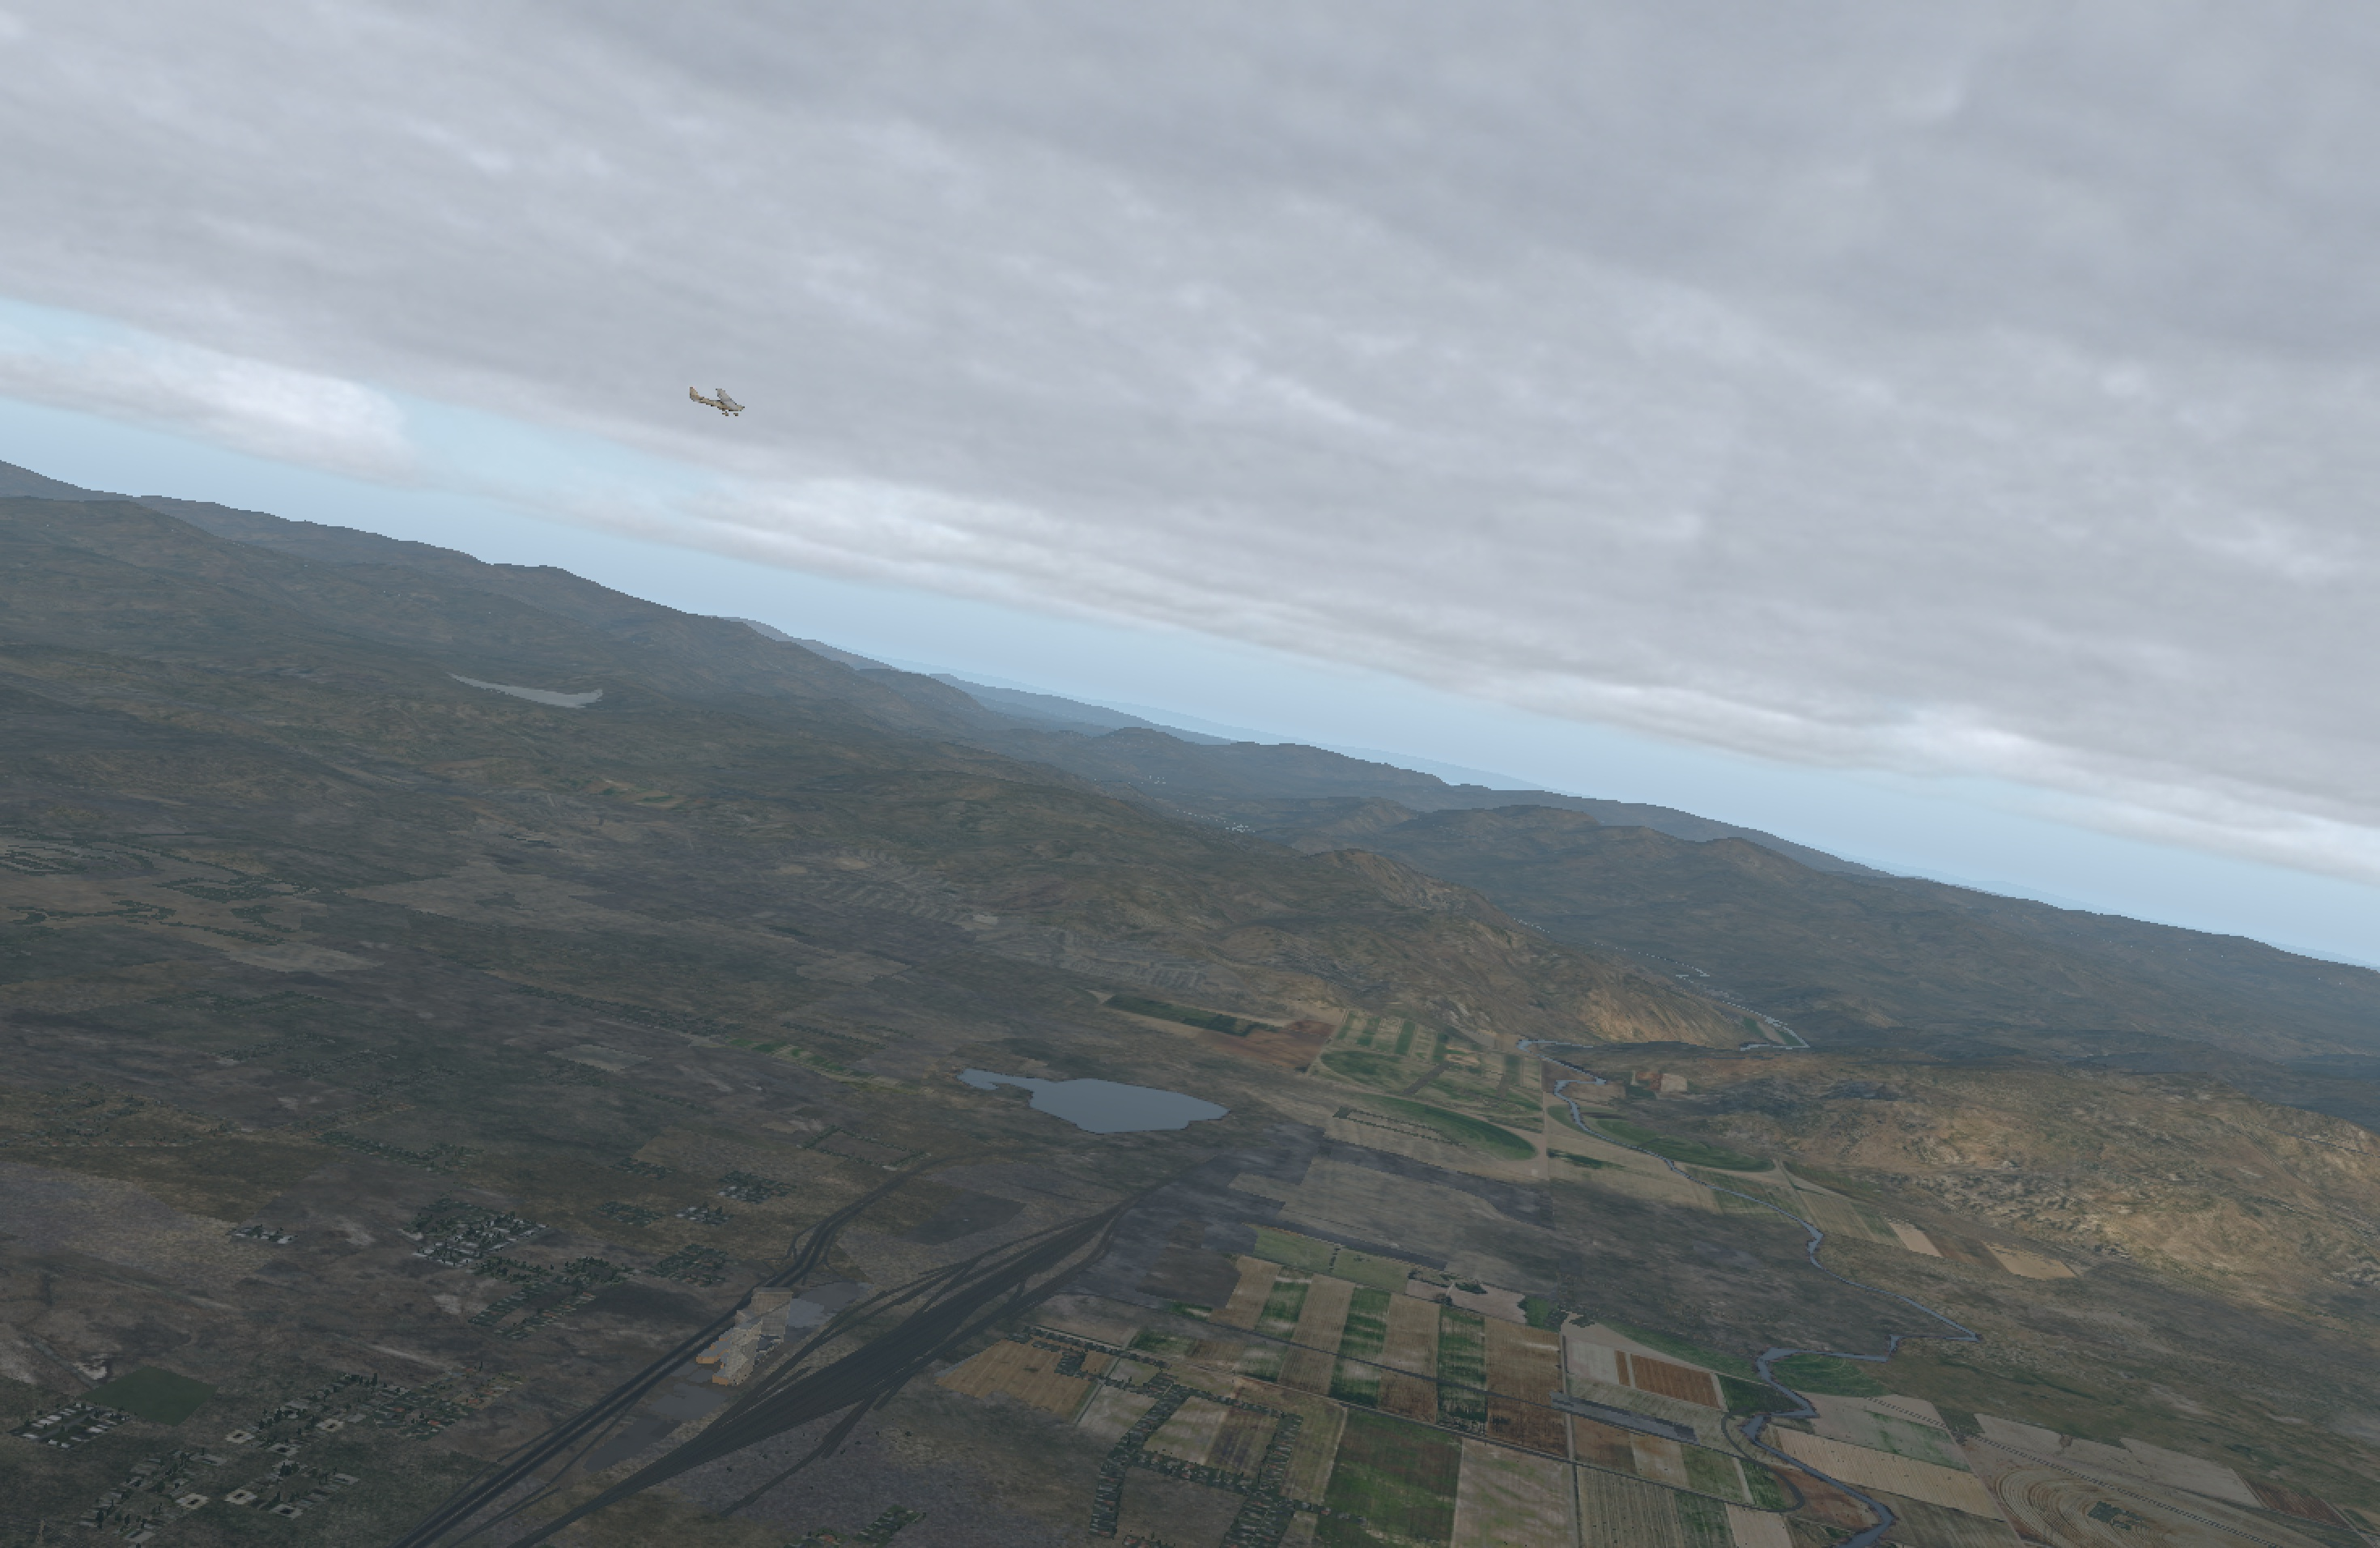aircraft: (701, 394, 756, 415)
